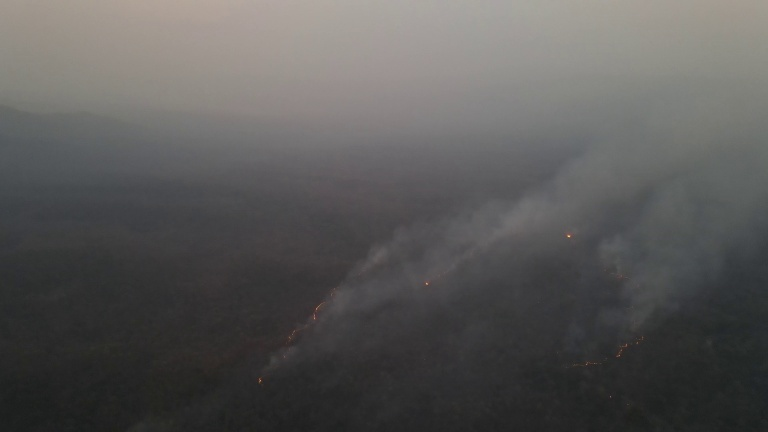fire: (564, 333, 651, 372), (286, 287, 337, 343), (599, 268, 641, 286), (255, 373, 263, 386), (563, 233, 574, 240), (425, 282, 430, 288)
smoke: (296, 115, 768, 343), (232, 347, 303, 401)
